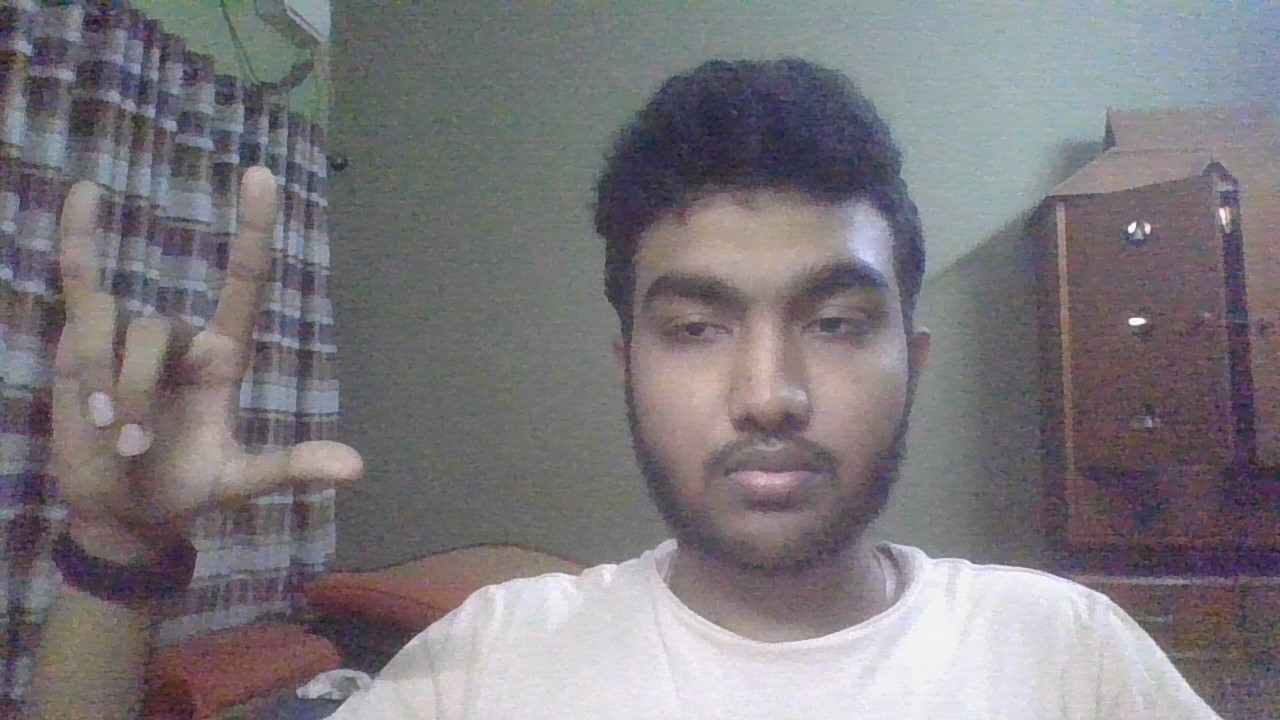I Love You: (27, 149, 377, 576)
